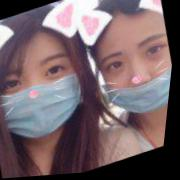OK: (1, 37, 98, 152)
WRONG: (90, 22, 177, 130)
